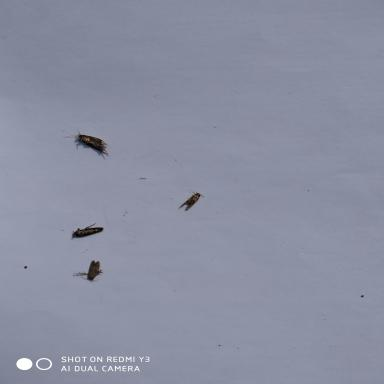pbw: (62, 127, 110, 157), (69, 221, 105, 240), (72, 260, 103, 282), (178, 190, 206, 212)
